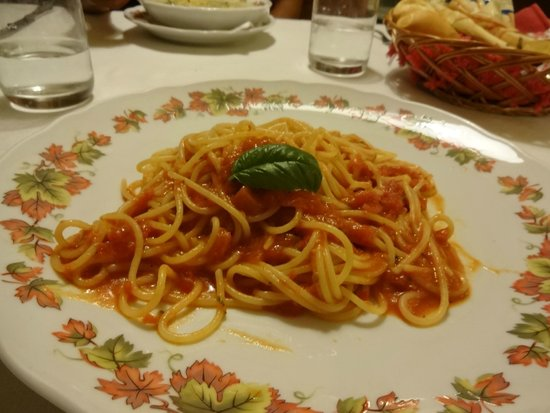glass of water: (1, 1, 96, 108), (310, 1, 372, 85)
plain spaghetti: (84, 133, 446, 309)
